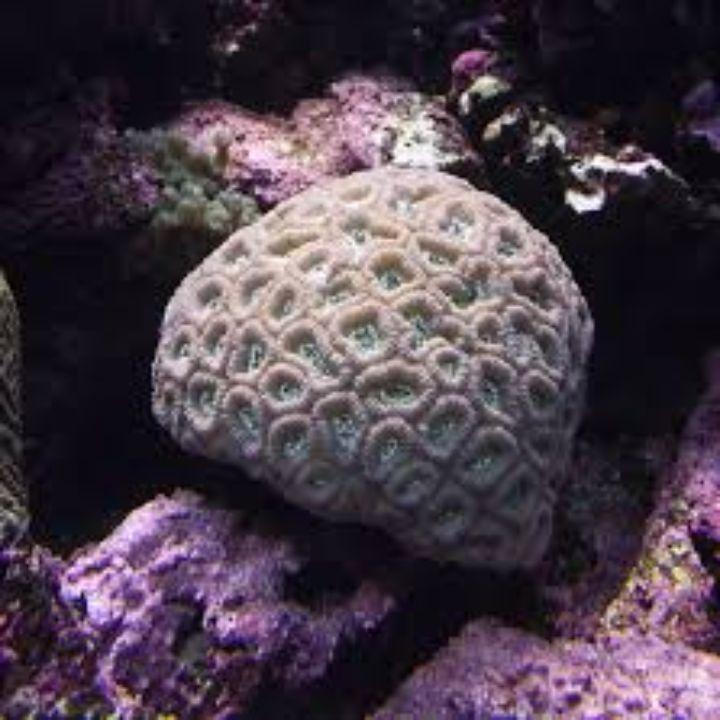Healthy Coral: (159, 188, 590, 554)
